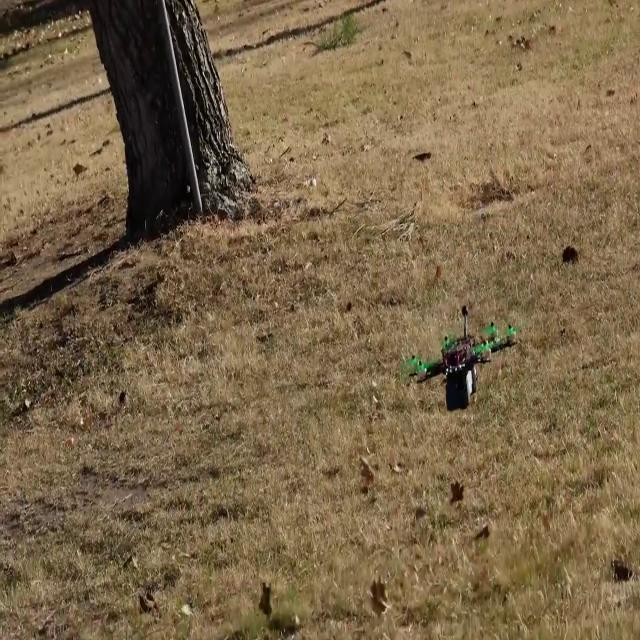drone: (401, 307, 510, 423)
